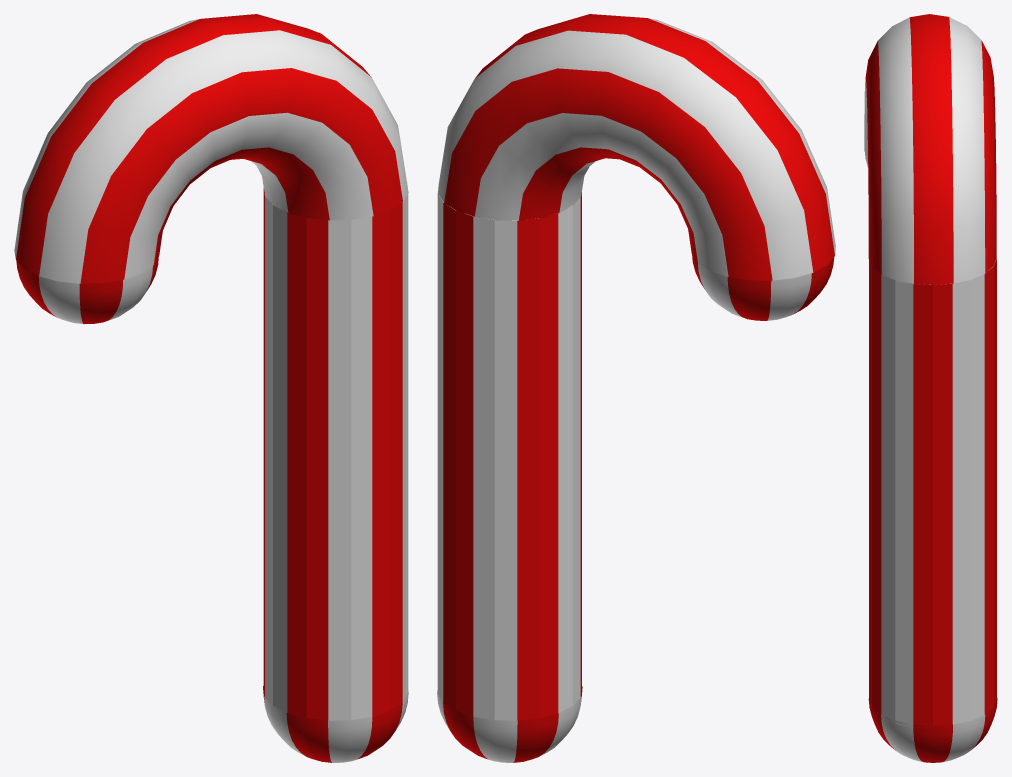
Rendered from Candy_cane.fbx.
The picture shows the model from 3 angles, left to right: view 1: azimuth 30°, elevation 25°; view 2: azimuth 150°, elevation 25°; view 3: azimuth 270°, elevation 25°; orthographic projection. The views are drawn at different scales.
Parts seen in each view (by area): view 1: polySurface1, polySurface2, pSphere2, pSphere1; view 2: polySurface1, polySurface2, pSphere2, pSphere1; view 3: polySurface1, polySurface2, pSphere2.
Part boxes in pixels (<box>): polySurface1: <box>263,188,408,720</box>; polySurface2: <box>14,14,408,283</box>; pSphere2: <box>263,686,408,762</box>; pSphere1: <box>16,257,158,324</box>; polySurface1: <box>437,186,581,720</box>; polySurface2: <box>438,14,835,280</box>; pSphere2: <box>437,686,582,762</box>; pSphere1: <box>692,255,834,320</box>; polySurface1: <box>869,258,996,728</box>; polySurface2: <box>864,14,996,285</box>; pSphere2: <box>868,697,997,762</box>.
Bounding box in the file's own units: 3 × 5.8 × 1.04.
